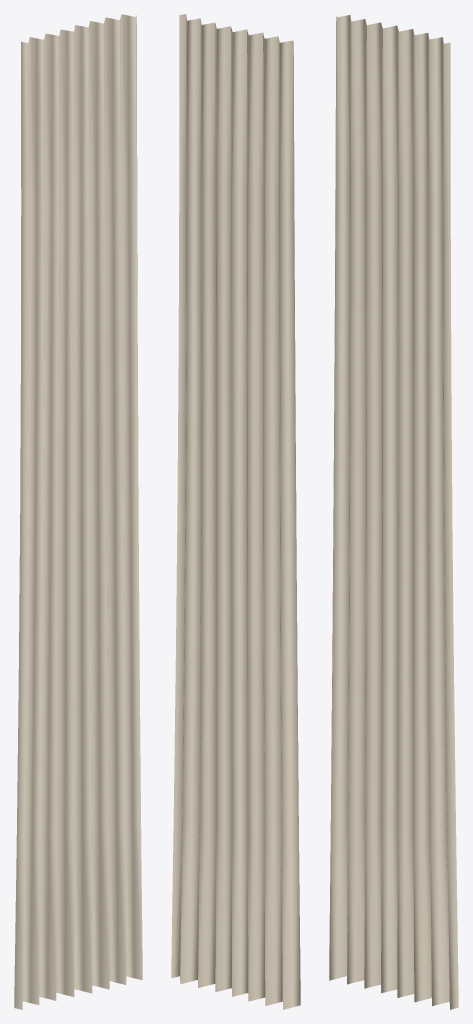
File: drape.glb
The picture shows the model from 3 angles, left to right: view 1: azimuth 30°, elevation 25°; view 2: azimuth 150°, elevation 25°; view 3: azimuth 330°, elevation 25°; orthographic projection.
Parts seen in each view (by area): view 1: resort; view 2: resort; view 3: resort.
Part boxes in pixels (x1=…): resort: x1=14, y1=14, x2=142, y2=1009; resort: x1=171, y1=14, x2=300, y2=1009; resort: x1=329, y1=15, x2=458, y2=1009.
Size of the model in its own units: 1.68 by 12 by 0.2398.
Materials: 1 (1 with a texture image).
